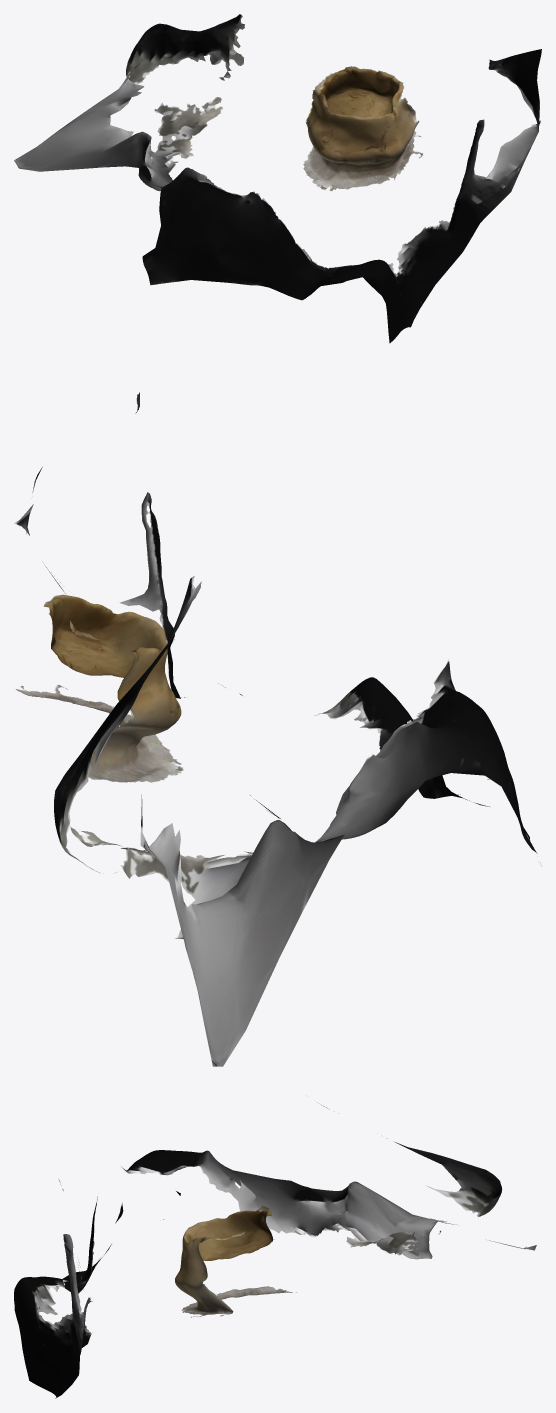
3 views of the same model, one above another, from view 1: azimuth 30°, elevation 25°; view 2: azimuth 150°, elevation 25°; view 3: azimuth 270°, elevation 25° (orthographic). The views are drawn at different scales.
Size of the model in its own units: 0.8926 by 0.5819 by 1.02.
1 material, 1 textured.
